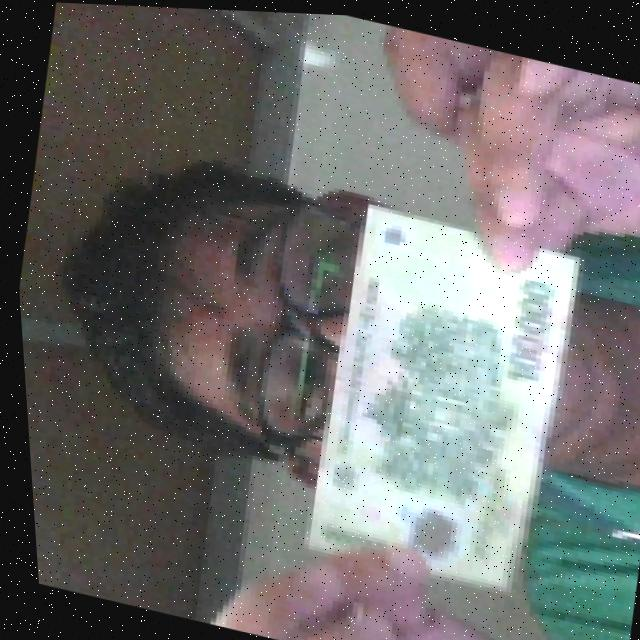100 000 VND: (274, 183, 605, 604)
